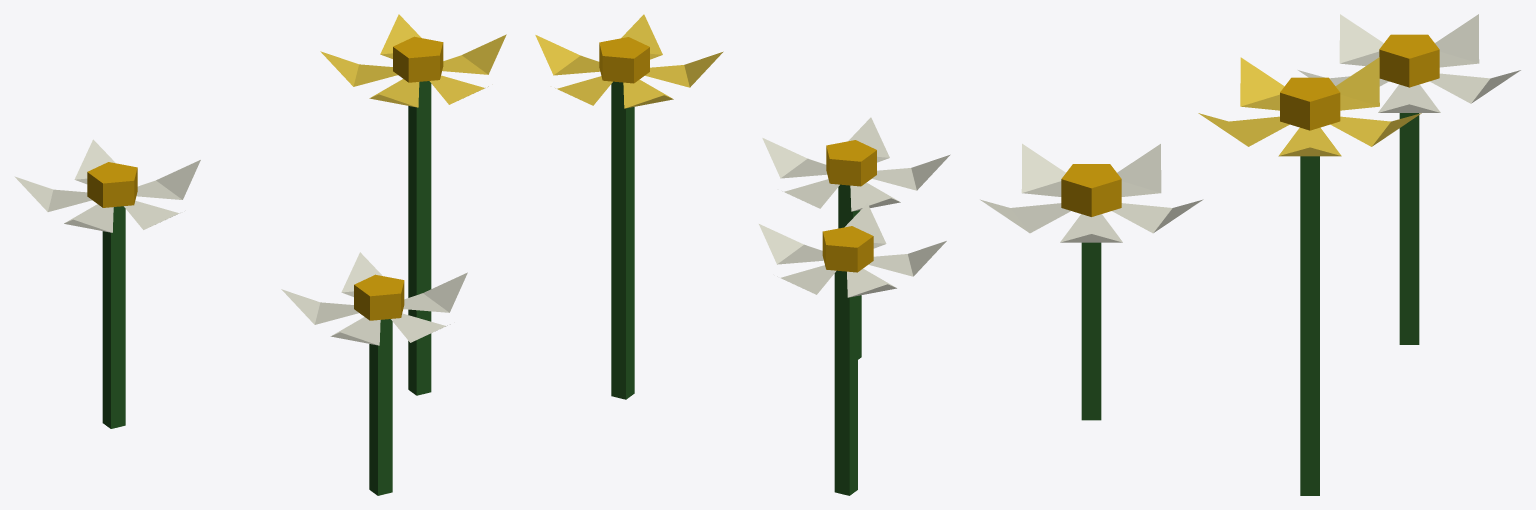
The model's file is flowers.fbx.
3 views of the same model, side by side, from view 1: azimuth 30°, elevation 25°; view 2: azimuth 150°, elevation 25°; view 3: azimuth 270°, elevation 25° (orthographic). The views are drawn at different scales.
Visible parts, largest first — view 1: flowers; view 2: flowers; view 3: flowers.
Boxes of the visible parts, left/top/right/bottom form: flowers: left=14, top=14, right=506, bottom=495; flowers: left=535, top=14, right=950, bottom=495; flowers: left=980, top=14, right=1520, bottom=495.
Bounding box in the file's own units: 0.2875 × 0.224 × 0.2731.
